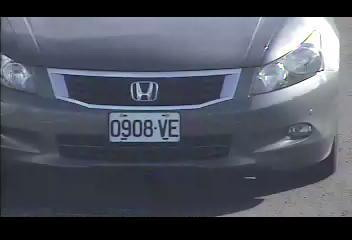plate: (106, 111, 181, 143)
